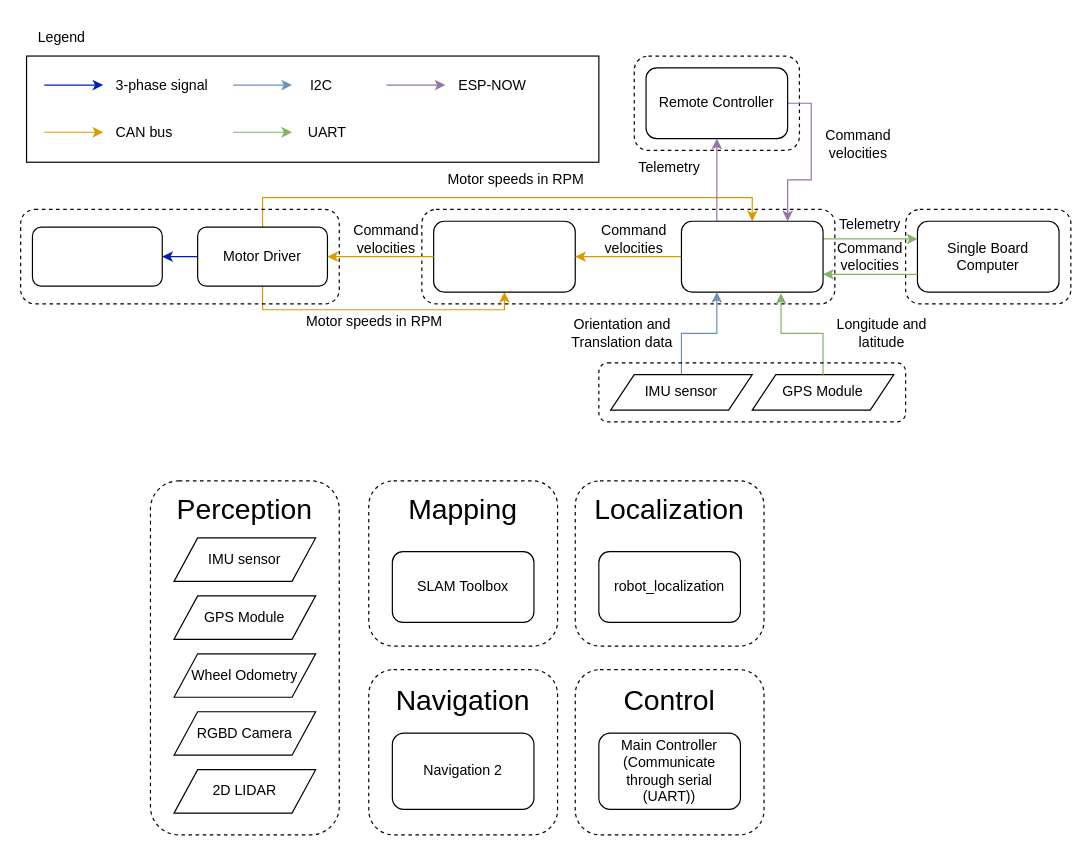
This 1092x855 diagram has some shape labels left out. Here are the shapes that lost their labels. From the top down, the box of each, then its label:
(31, 226, 162, 286): Hub Motors
(432, 220, 575, 292): Base Controller
(680, 220, 823, 292): Main Controller
